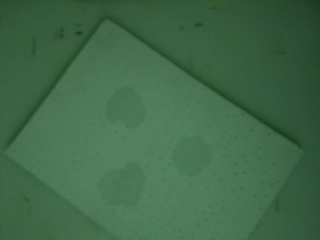Water_detected: (108, 96, 141, 124), (103, 173, 136, 197), (180, 148, 210, 169)
